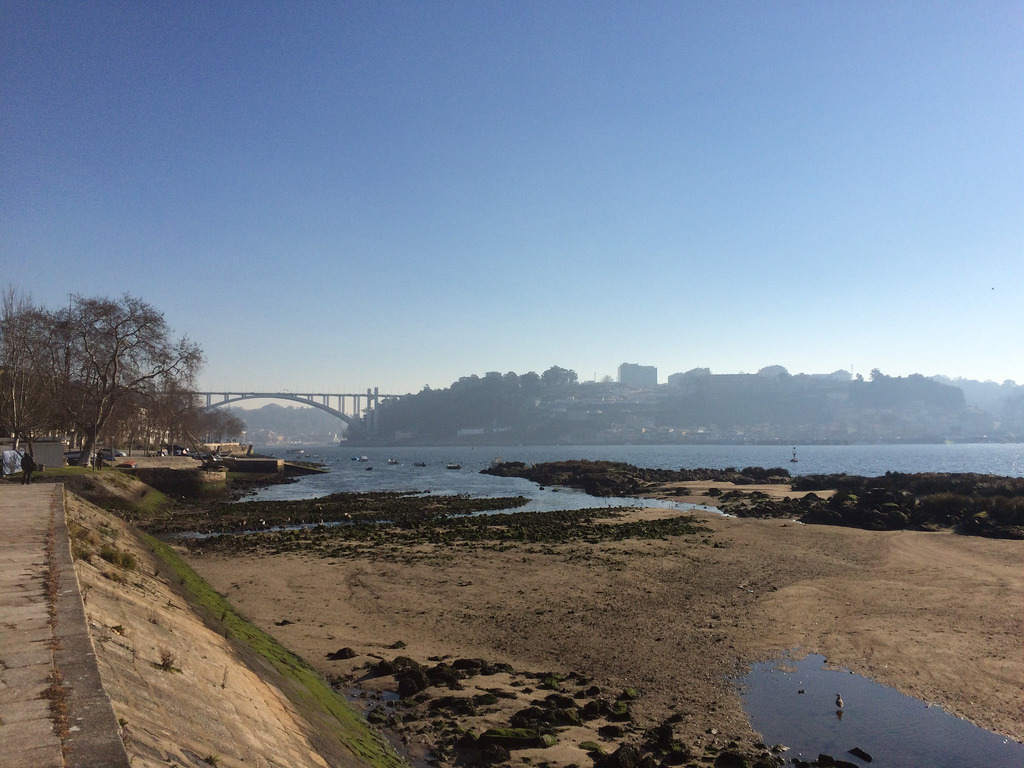arrabida: (135, 386, 414, 438)
